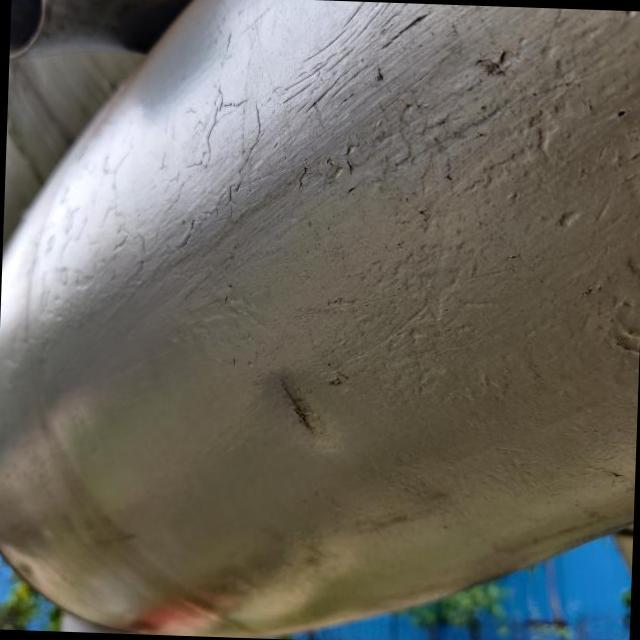Dent: (238, 340, 351, 460)
